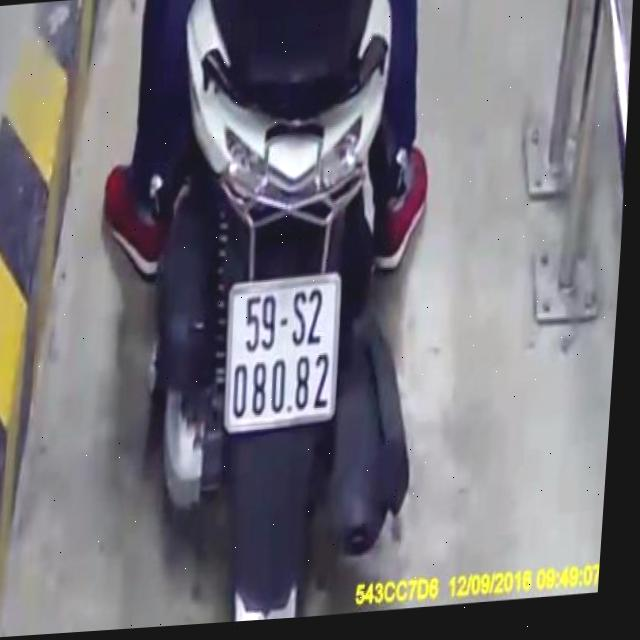motorcycle: (125, 0, 458, 629)
plate: (215, 271, 345, 437)
